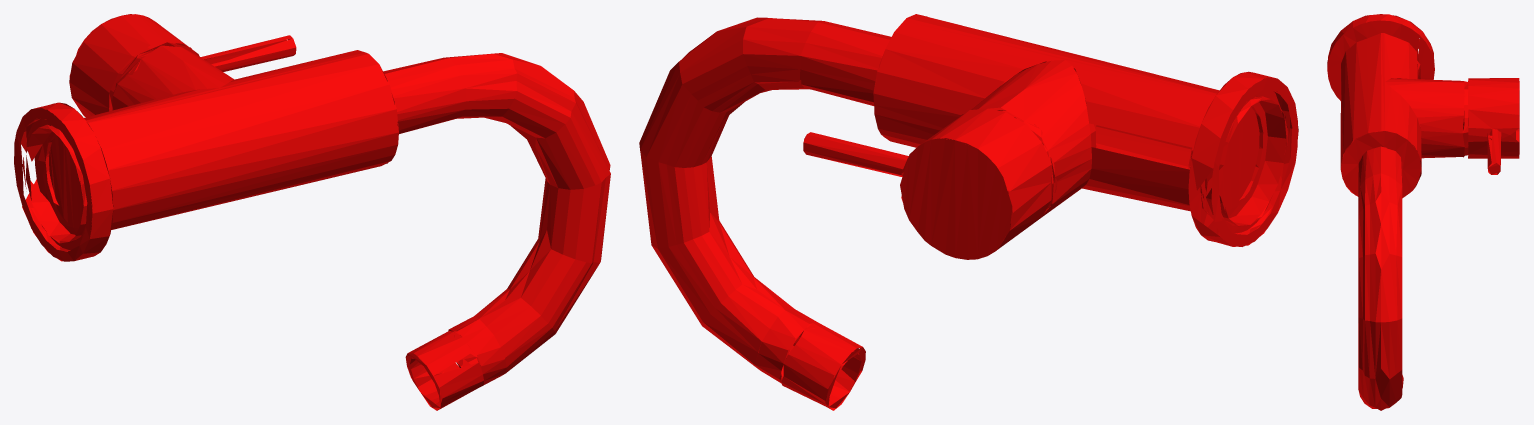
The picture shows the model from 3 angles, left to right: view 1: azimuth 30°, elevation 25°; view 2: azimuth 150°, elevation 25°; view 3: azimuth 270°, elevation 25°; orthographic projection. The views are drawn at different scales.
Visible parts, largest first — view 1: Renderer Node; view 2: Renderer Node; view 3: Renderer Node.
Boxes of the visible parts, left/top/right/bottom form: Renderer Node: left=14, top=14, right=610, bottom=410; Renderer Node: left=639, top=14, right=1298, bottom=410; Renderer Node: left=1327, top=14, right=1519, bottom=410.
Bounding box in the file's own units: 0.7812 × 0.5218 × 0.3454.
1 material, 1 textured.
